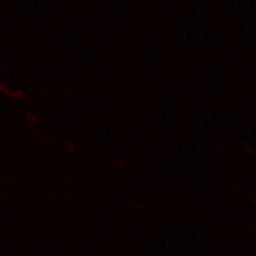debris: (105, 157, 123, 171), (24, 110, 40, 125), (1, 87, 23, 95), (63, 141, 80, 151)
